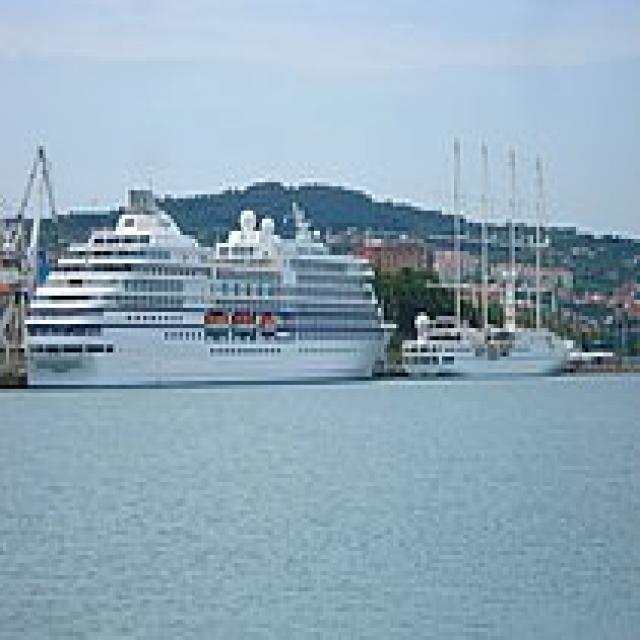Ship: (16, 171, 394, 390), (397, 301, 592, 403)
